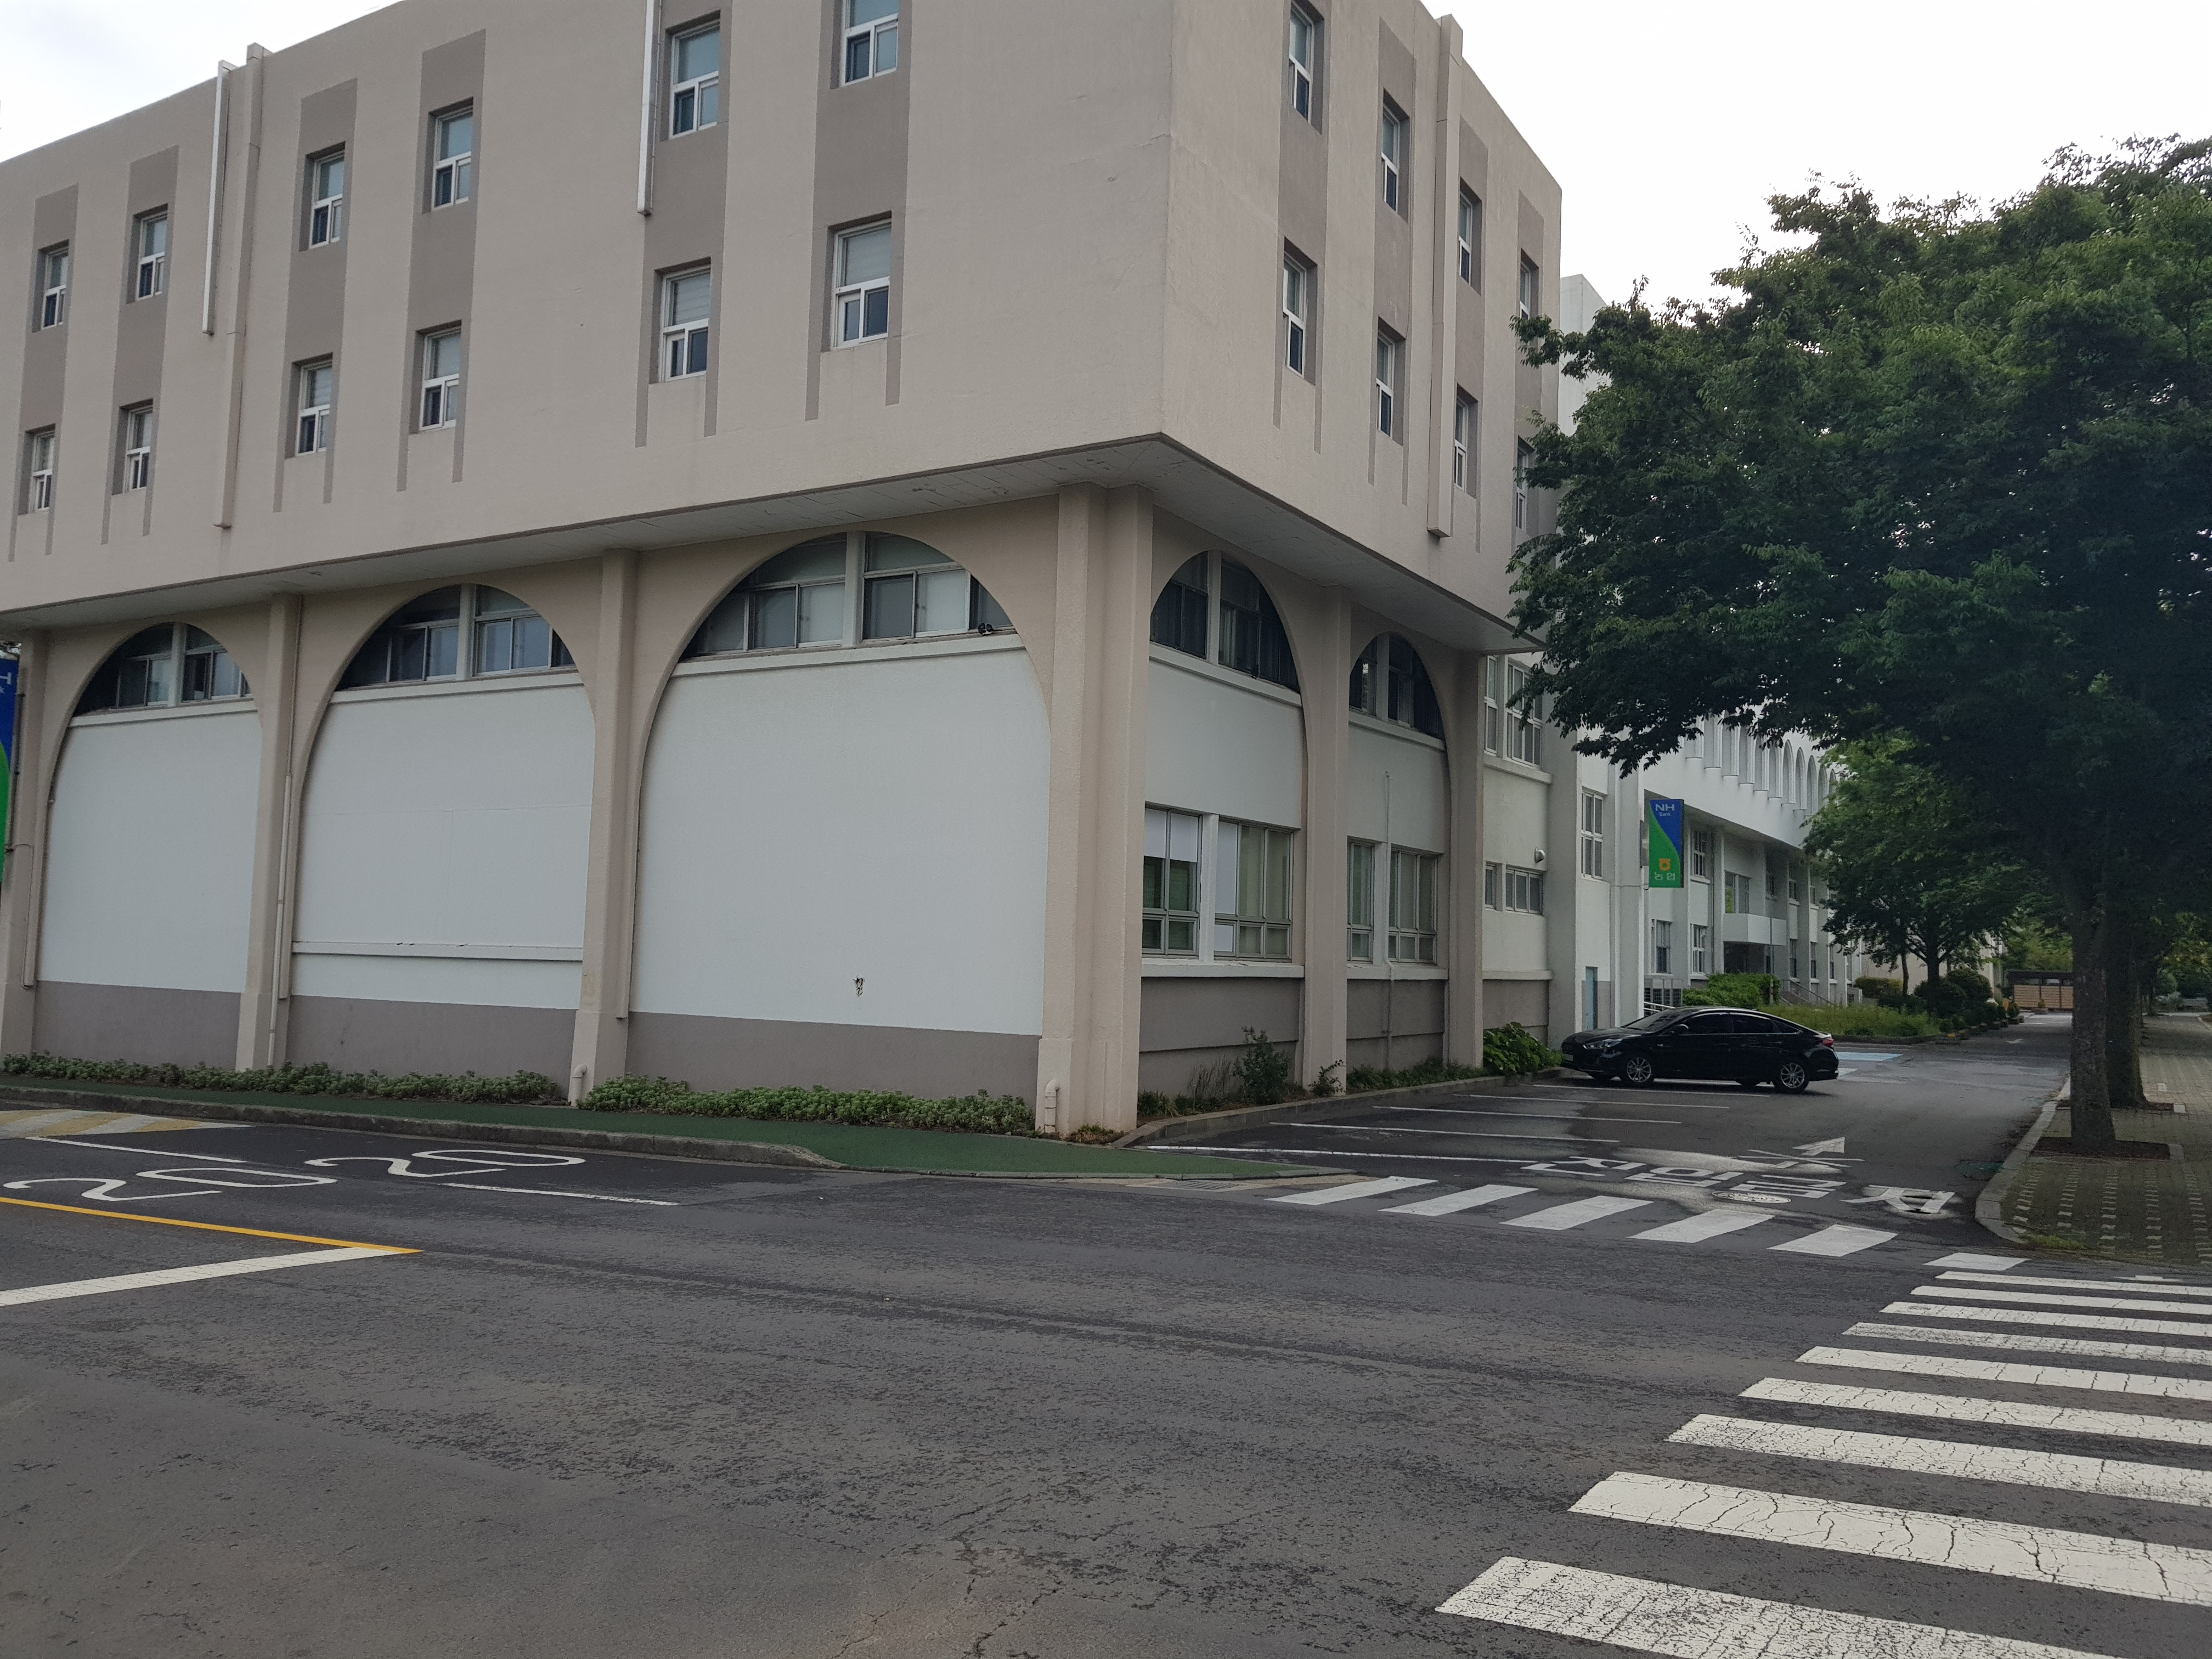Main Building of University: (23, 16, 1867, 1012), (17, 44, 1005, 469), (1235, 61, 1571, 561), (61, 575, 1014, 728)
